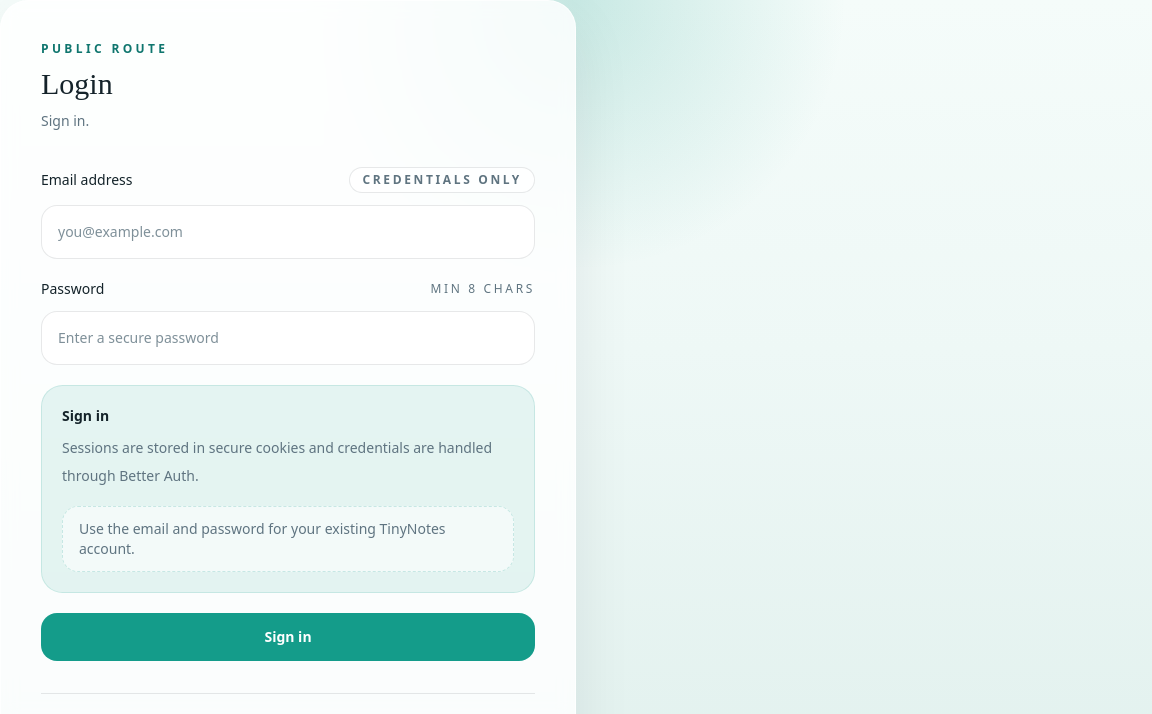
Test case: CredentialsForm › shows the login error message when the auth client rejects credentials
The image size is (1152, 714).
Expected: the button "Sign in" is enabled, [41,612,535,660]
Type "user@example.com" into the field labelled "Email address Credentials only" at [288, 232], box [41,204,535,258]
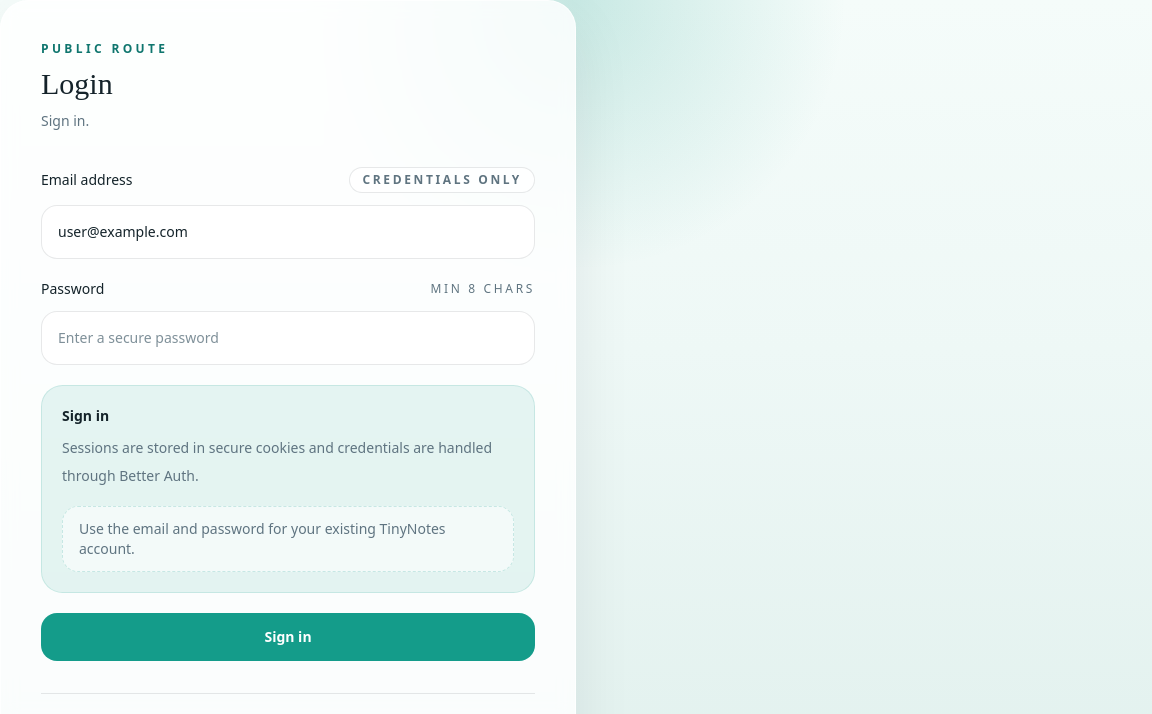
Type "Password-1234" into the password field labelled "Password Min 8 chars" at [288, 338], box [41,310,535,364]
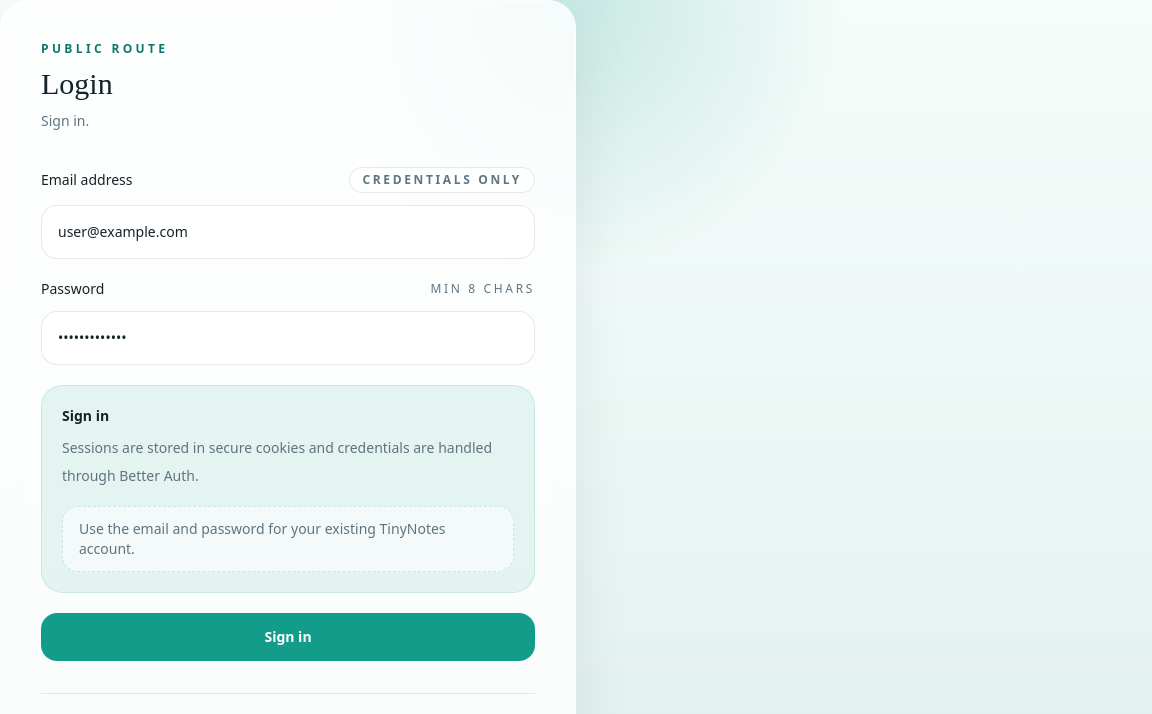
Click the button "Sign in" at [288, 636], box [41,612,535,660]
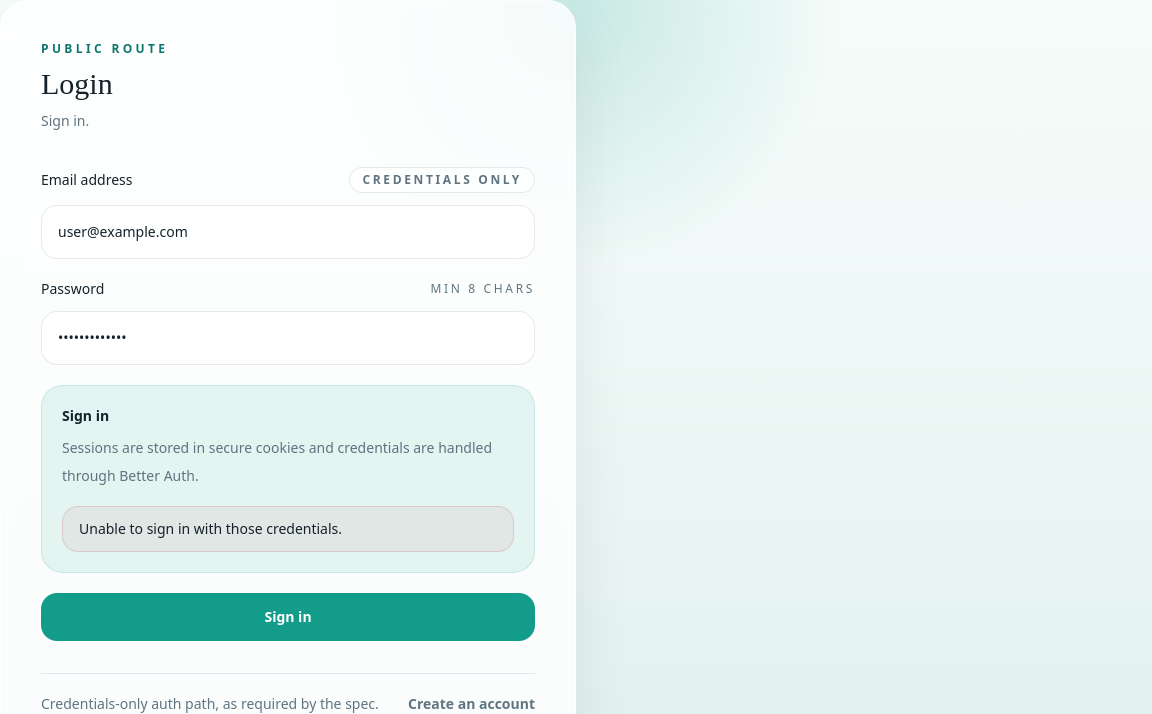
Expected: the text "Unable to sign in with those credentials." is shown, [62,506,514,552]
